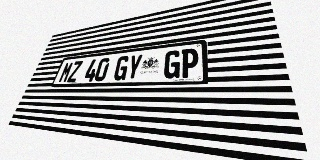0: (93, 57, 111, 81)
4: (83, 59, 100, 82)
G: (163, 50, 181, 79), (112, 55, 130, 81)
M: (58, 62, 74, 83)
P: (180, 48, 198, 78)
Y: (125, 54, 143, 80)
Z: (66, 61, 83, 82)
